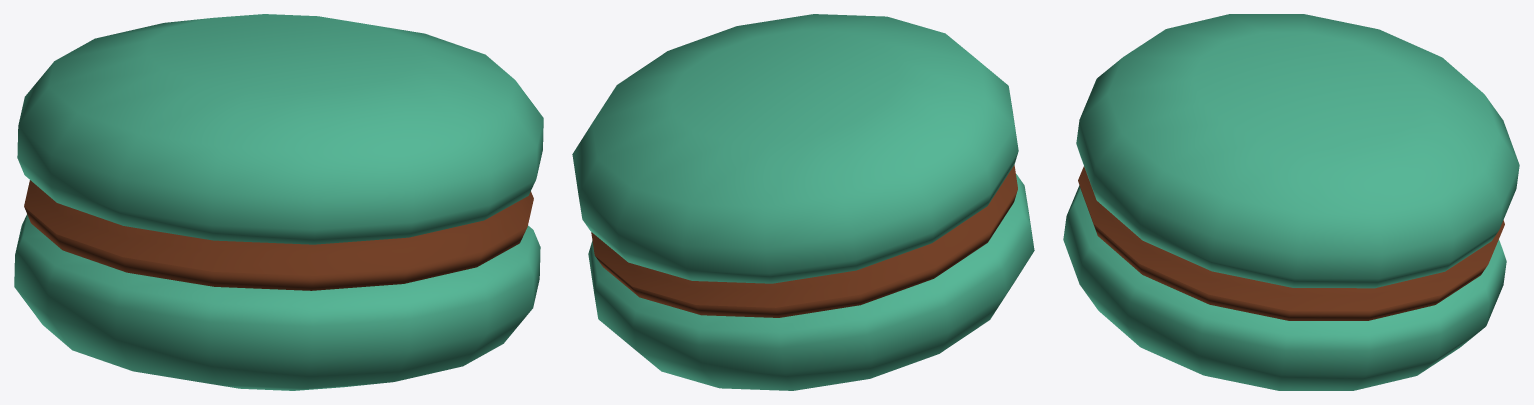
The model's file is SM_macaron_07.fbx.
3 views of the same model, side by side, from view 1: azimuth 30°, elevation 25°; view 2: azimuth 150°, elevation 25°; view 3: azimuth 270°, elevation 25° (orthographic). The views are drawn at different scales.
Visible parts, largest first — view 1: SM_macaron_07; view 2: SM_macaron_07; view 3: SM_macaron_07.
Boxes of the visible parts, bbox=[...] form: SM_macaron_07: bbox=[14, 14, 543, 390]; SM_macaron_07: bbox=[572, 14, 1034, 390]; SM_macaron_07: bbox=[1063, 14, 1519, 390].
Size of the model in its own units: 9.29 by 5.96 by 9.33.
Materials: 1 (1 with a texture image).
